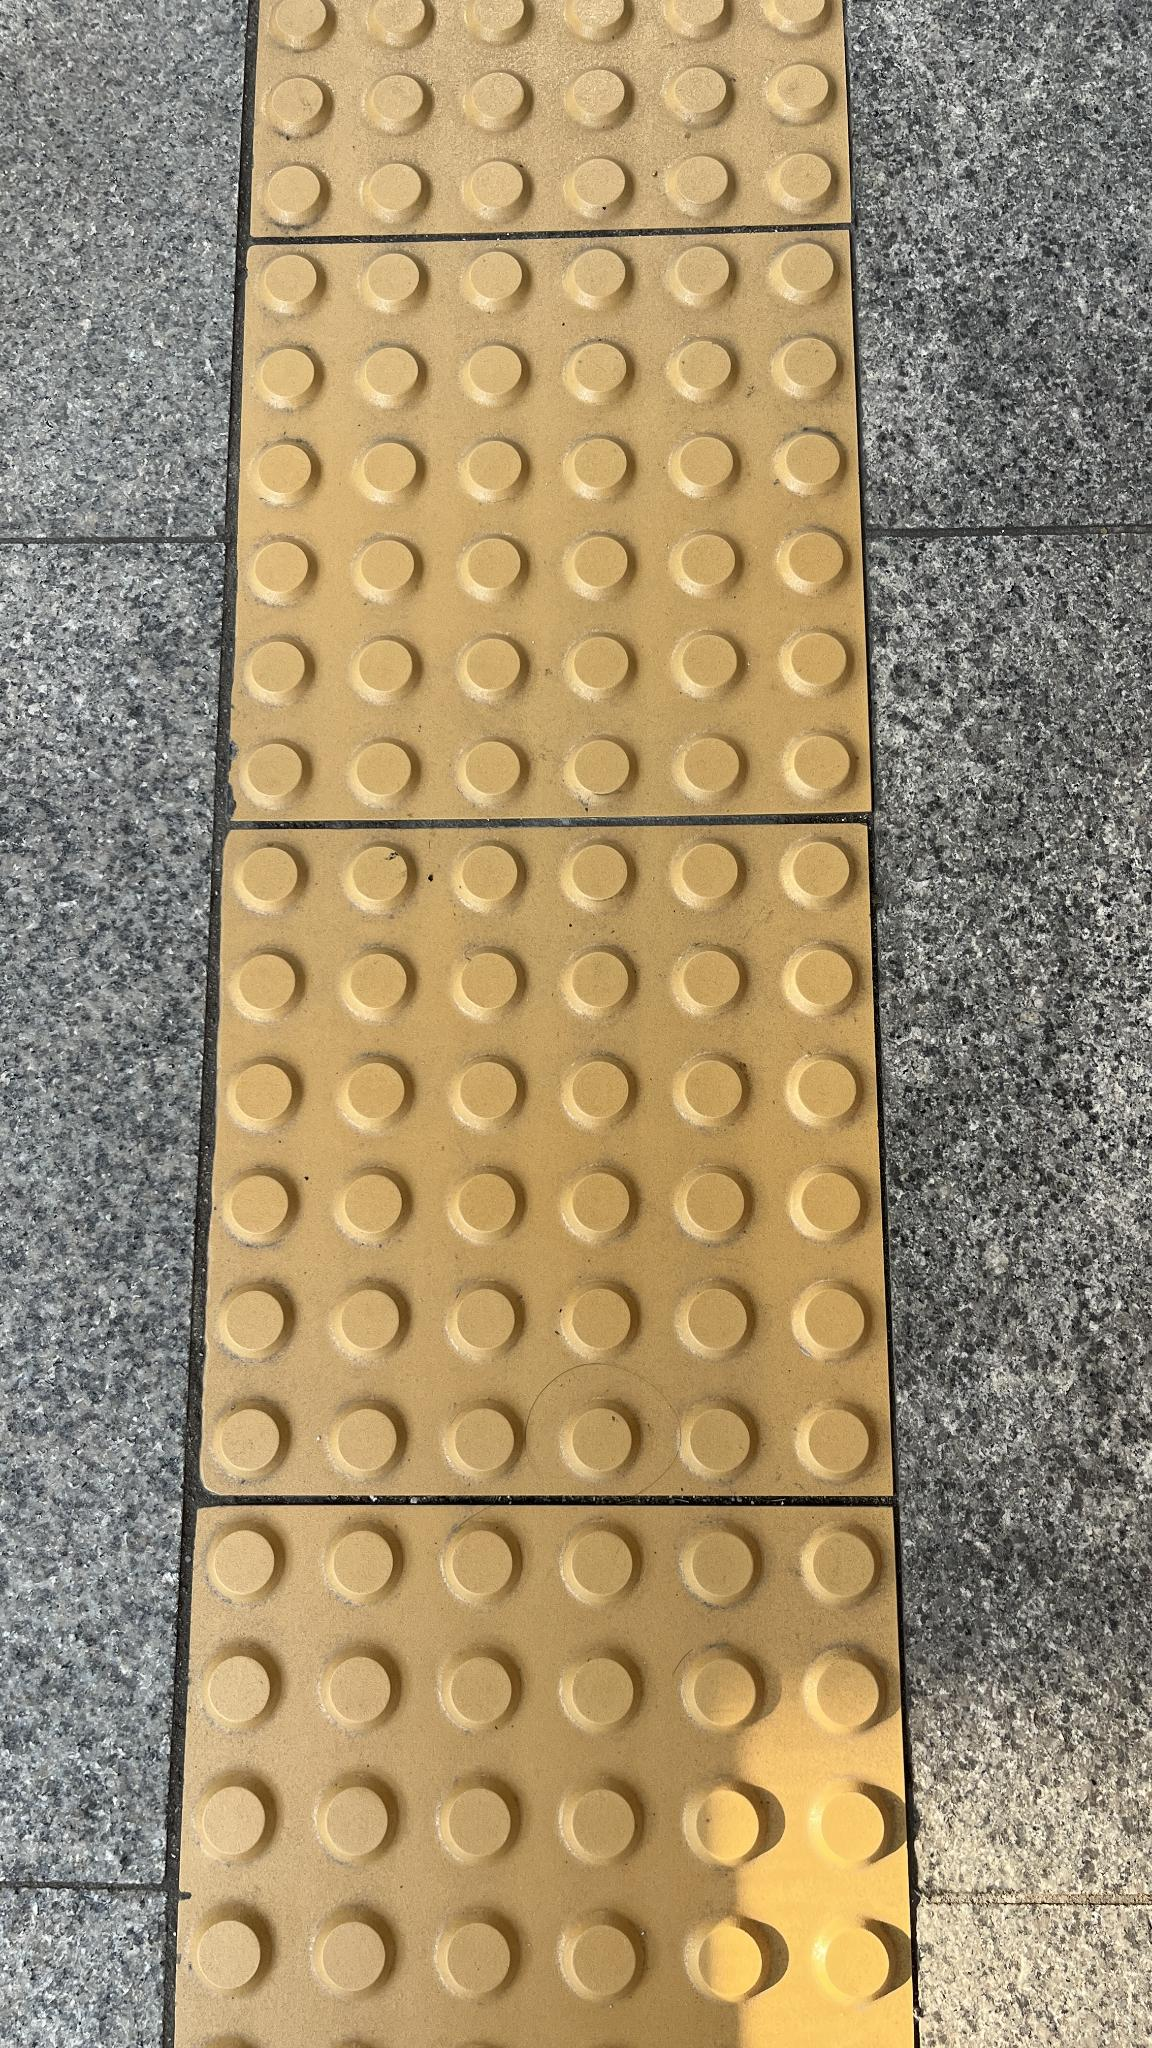Stop block normal: (204, 834, 893, 1485)
